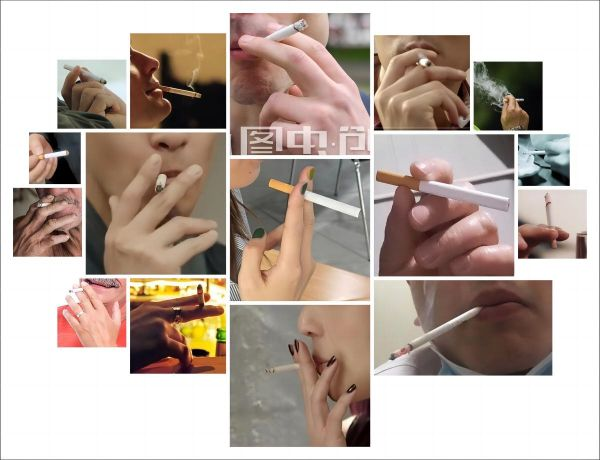smoke: (387, 305, 486, 364), (377, 168, 512, 211), (266, 178, 365, 220), (61, 63, 109, 90), (265, 20, 311, 44), (542, 190, 560, 251), (154, 85, 204, 100), (192, 284, 211, 320), (411, 53, 439, 74), (266, 362, 304, 377), (37, 149, 72, 162), (154, 171, 170, 194), (66, 285, 92, 299), (499, 95, 528, 106), (519, 149, 550, 159), (36, 200, 54, 209)
